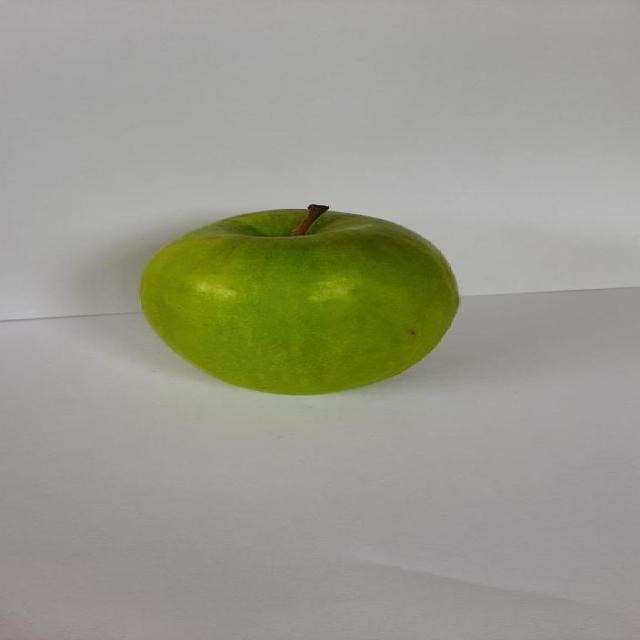50-_ripeness: (122, 197, 466, 406)
